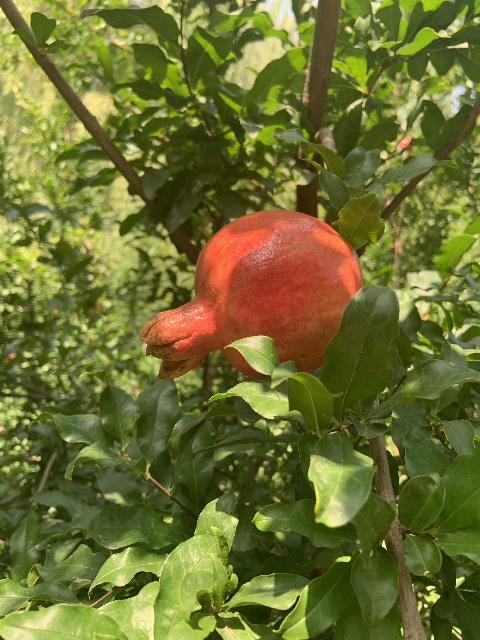ripe: (139, 208, 363, 379)
